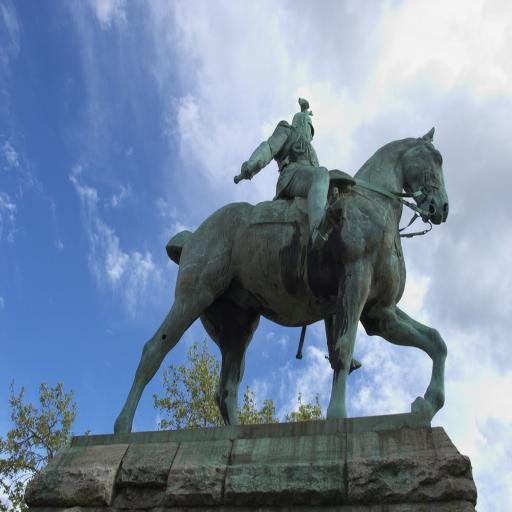horse: (110, 122, 450, 429)
